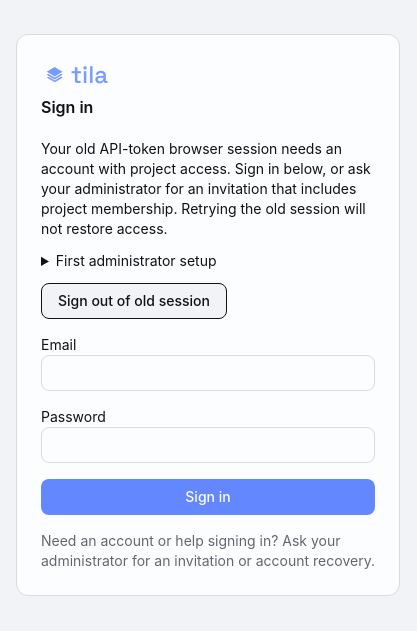
Test: legacy browser session migration › keeps recovery guidance visible when sign-out fails
Step 1. Click the button "Sign out of old session" → coordinates (134, 301), box top-left (41, 283), bottom-right (227, 319)
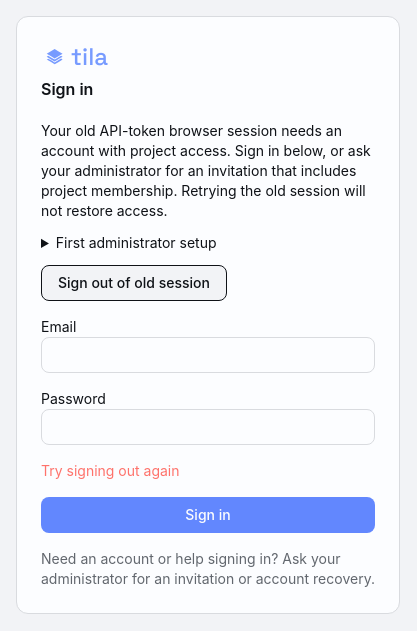
Check: the text "Your old API-token browser session" is shown, box top-left (41, 122), bottom-right (371, 219)
Check: the text "Try signing out again" is shown, box top-left (41, 462), bottom-right (180, 479)
